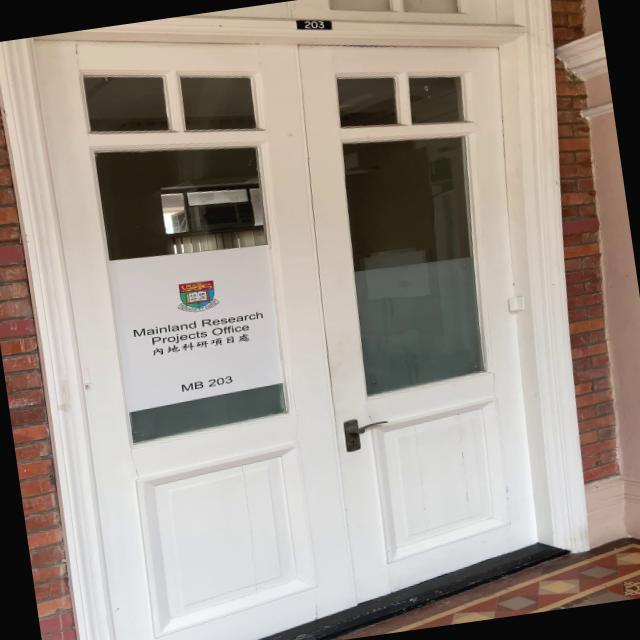room203: (292, 12, 334, 36)
room203Window: (170, 372, 238, 394)
